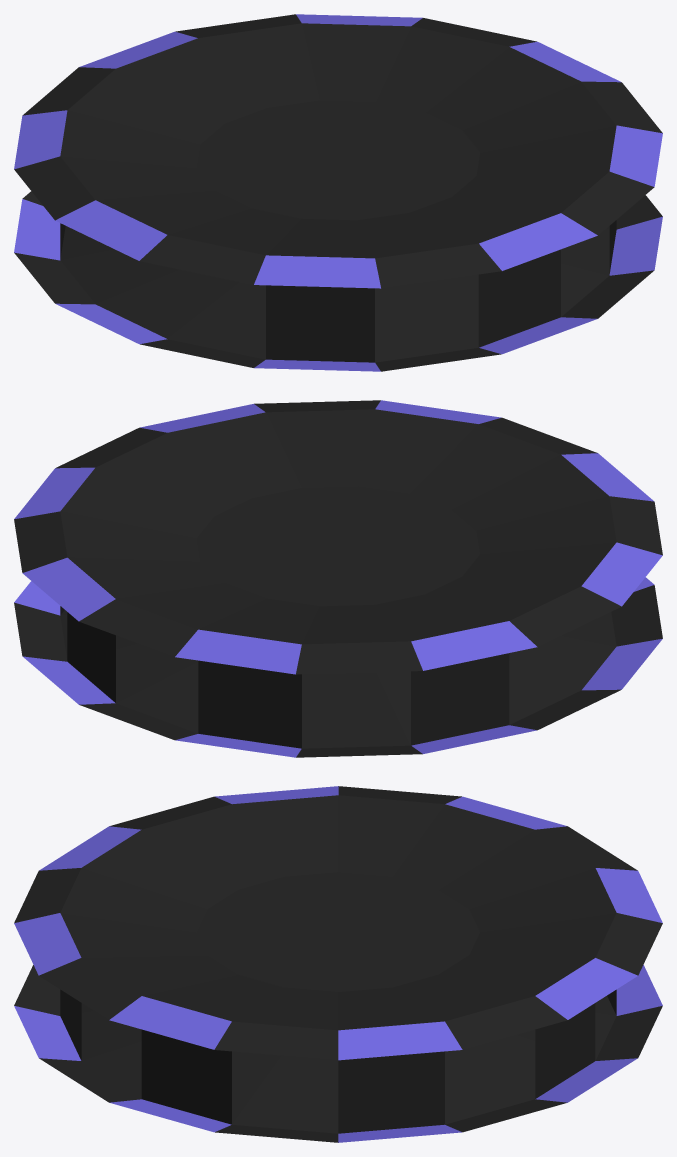
The model's file is gear_c.fbx.
3 views of the same model, one above another, from view 1: azimuth 30°, elevation 25°; view 2: azimuth 150°, elevation 25°; view 3: azimuth 270°, elevation 25° (orthographic).
Visible parts, largest first — view 1: Cylinder.003; view 2: Cylinder.003; view 3: Cylinder.003.
Boxes of the visible parts, x1,y1,x2,y2 form: Cylinder.003: [14, 14, 662, 371]; Cylinder.003: [14, 400, 662, 757]; Cylinder.003: [14, 786, 662, 1142].
Bounding box in the file's own units: 200 × 35.14 × 200.
